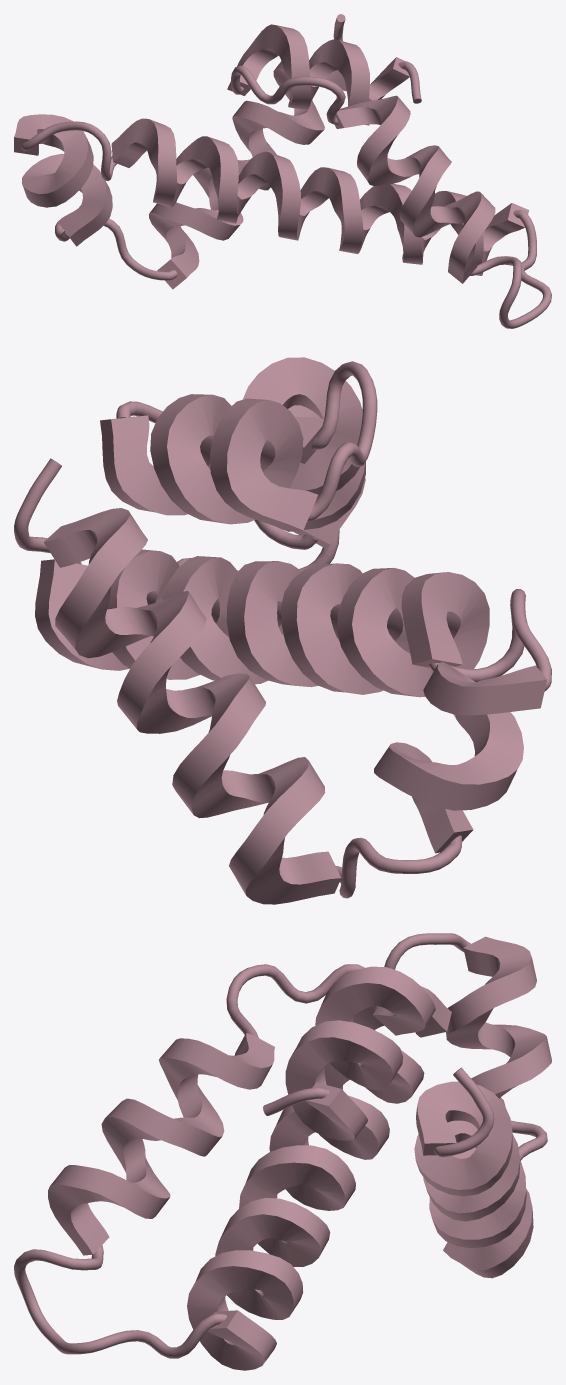
Rendered from binder.glb.
3 views of the same model, one above another, from view 1: azimuth 30°, elevation 25°; view 2: azimuth 150°, elevation 25°; view 3: azimuth 270°, elevation 25° (orthographic). The views are drawn at different scales.
Visible parts, largest first — view 1: S_CART; view 2: S_CART; view 3: S_CART.
Part boxes in pixels (x1,y1,x2,y2): S_CART: (14,14,551,328); S_CART: (14,357,551,904); S_CART: (14,933,551,1370).
Size of the model in its own units: 4.07 by 2.5 by 3.54.
